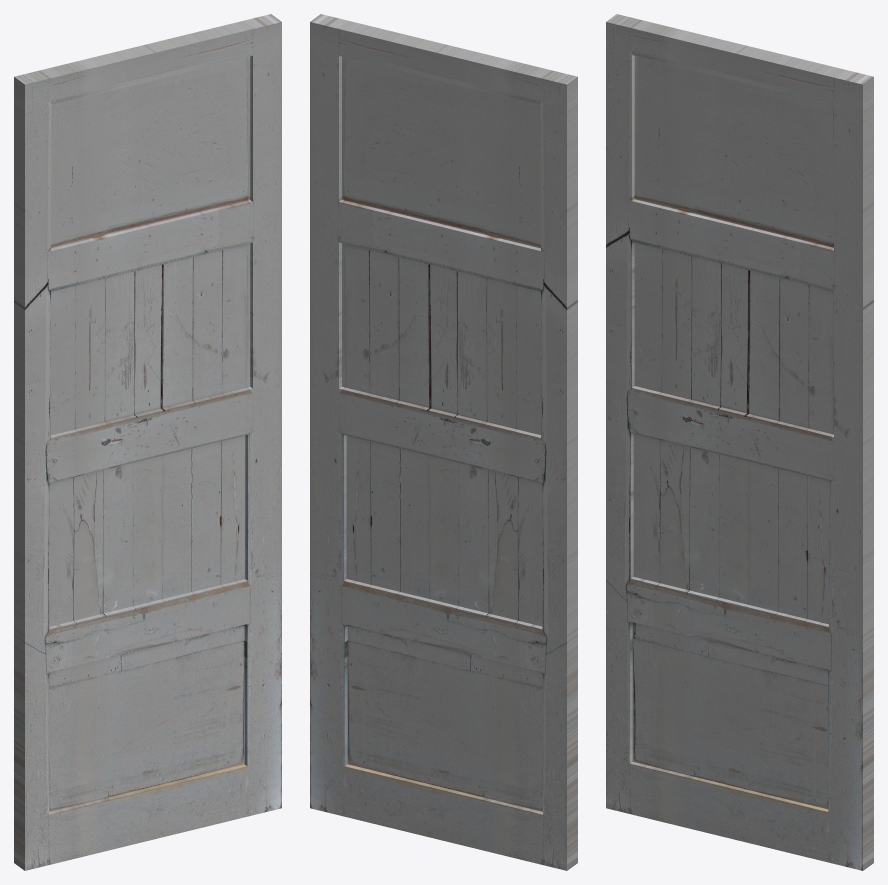
Rendered from door2.FBX.
3 renders of one model, left to right at view 1: azimuth 30°, elevation 25°; view 2: azimuth 150°, elevation 25°; view 3: azimuth 330°, elevation 25°, orthographic.
Visible parts, largest first — view 1: Rectangle001; view 2: Rectangle001; view 3: Rectangle001.
Boxes of the visible parts, x1,y1,x2,y2 form: Rectangle001: (14,14,281,870); Rectangle001: (310,14,577,870); Rectangle001: (606,14,873,870).
Size of the model in its own units: 0.6831 by 2 by 0.05.
